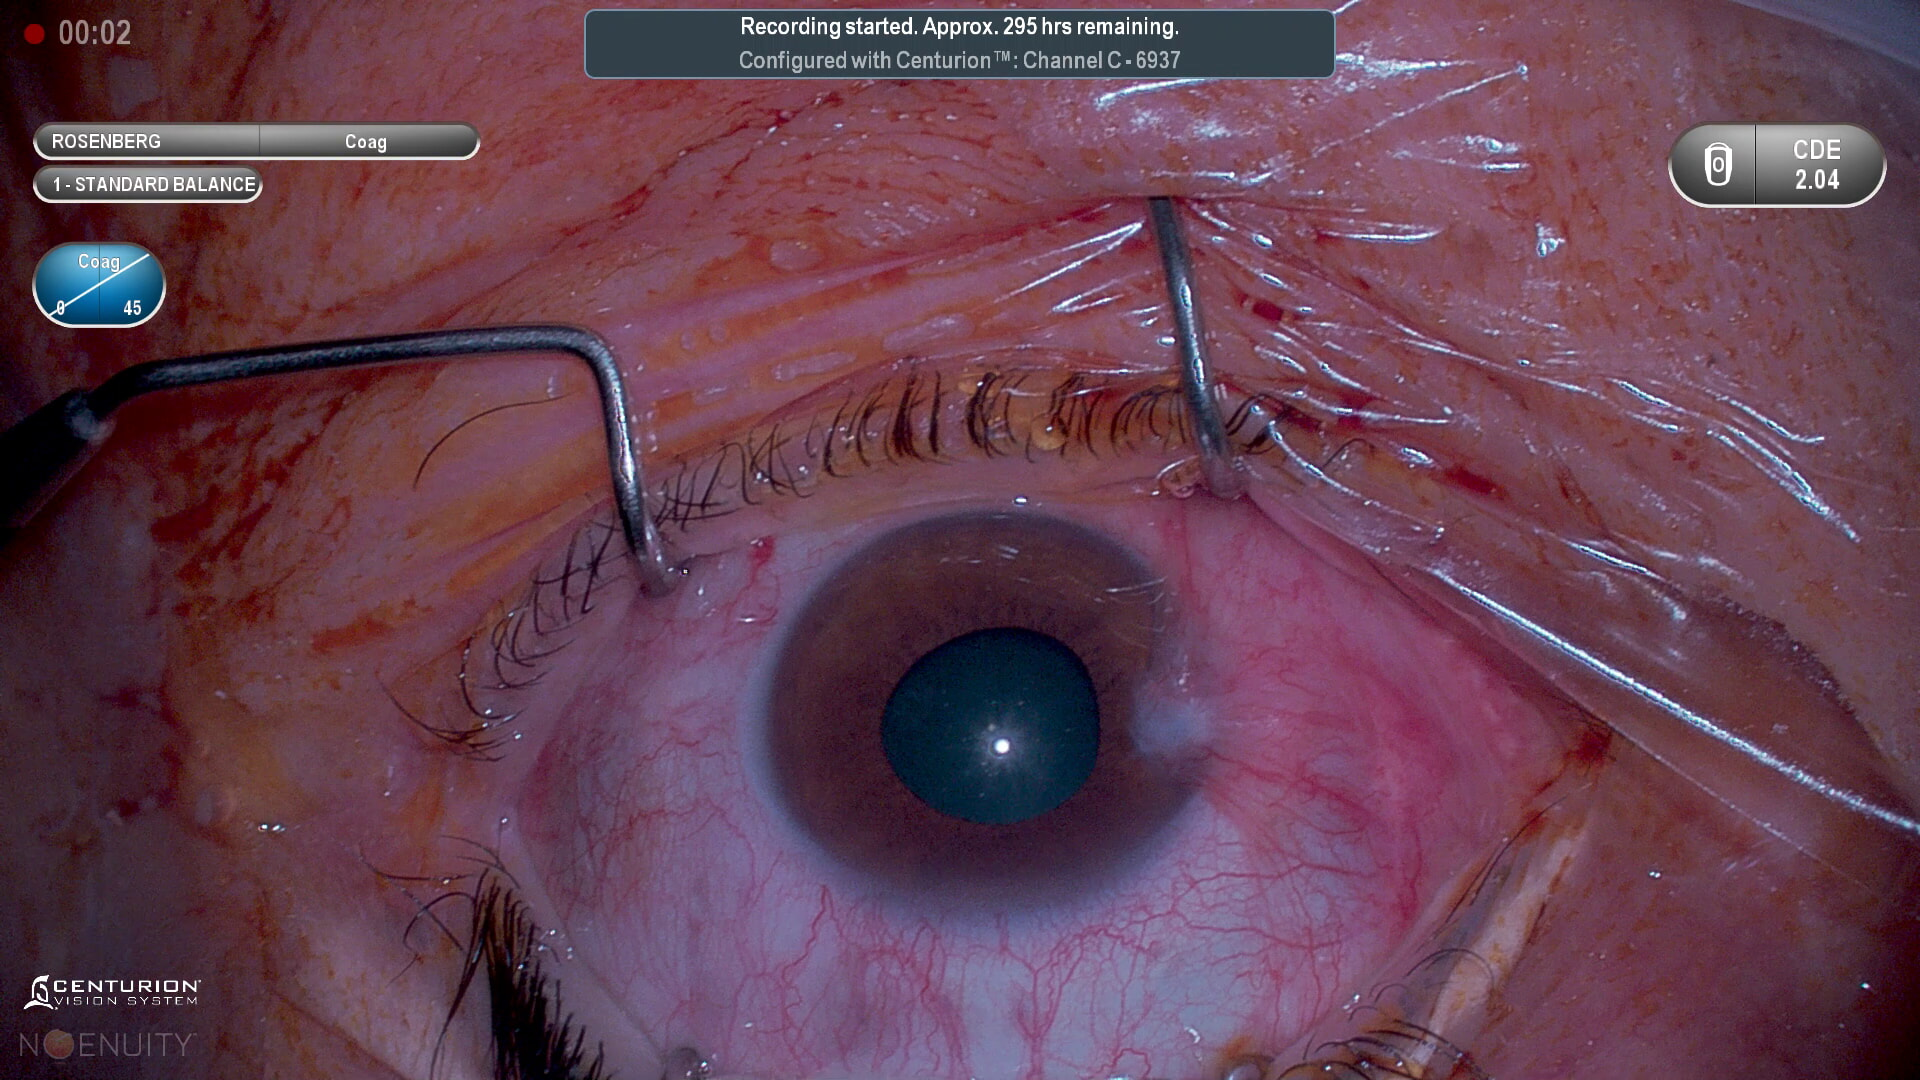iris: (771, 511, 1210, 907)
pupil: (876, 628, 1105, 831)
